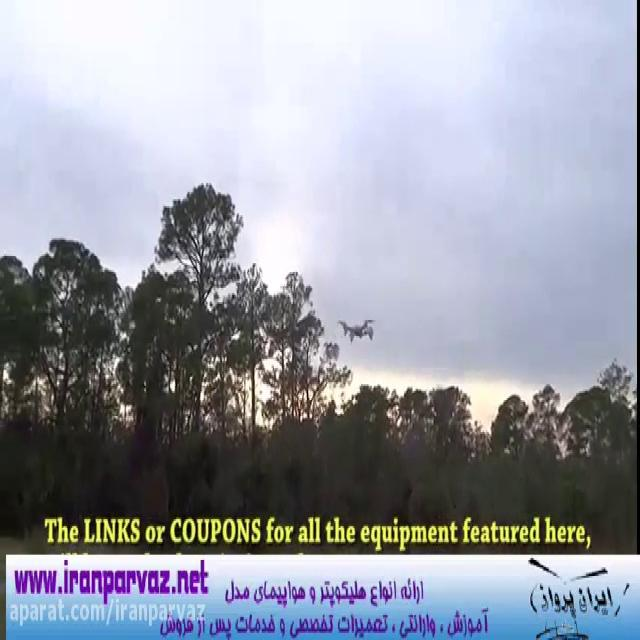drone: (333, 311, 377, 345)
